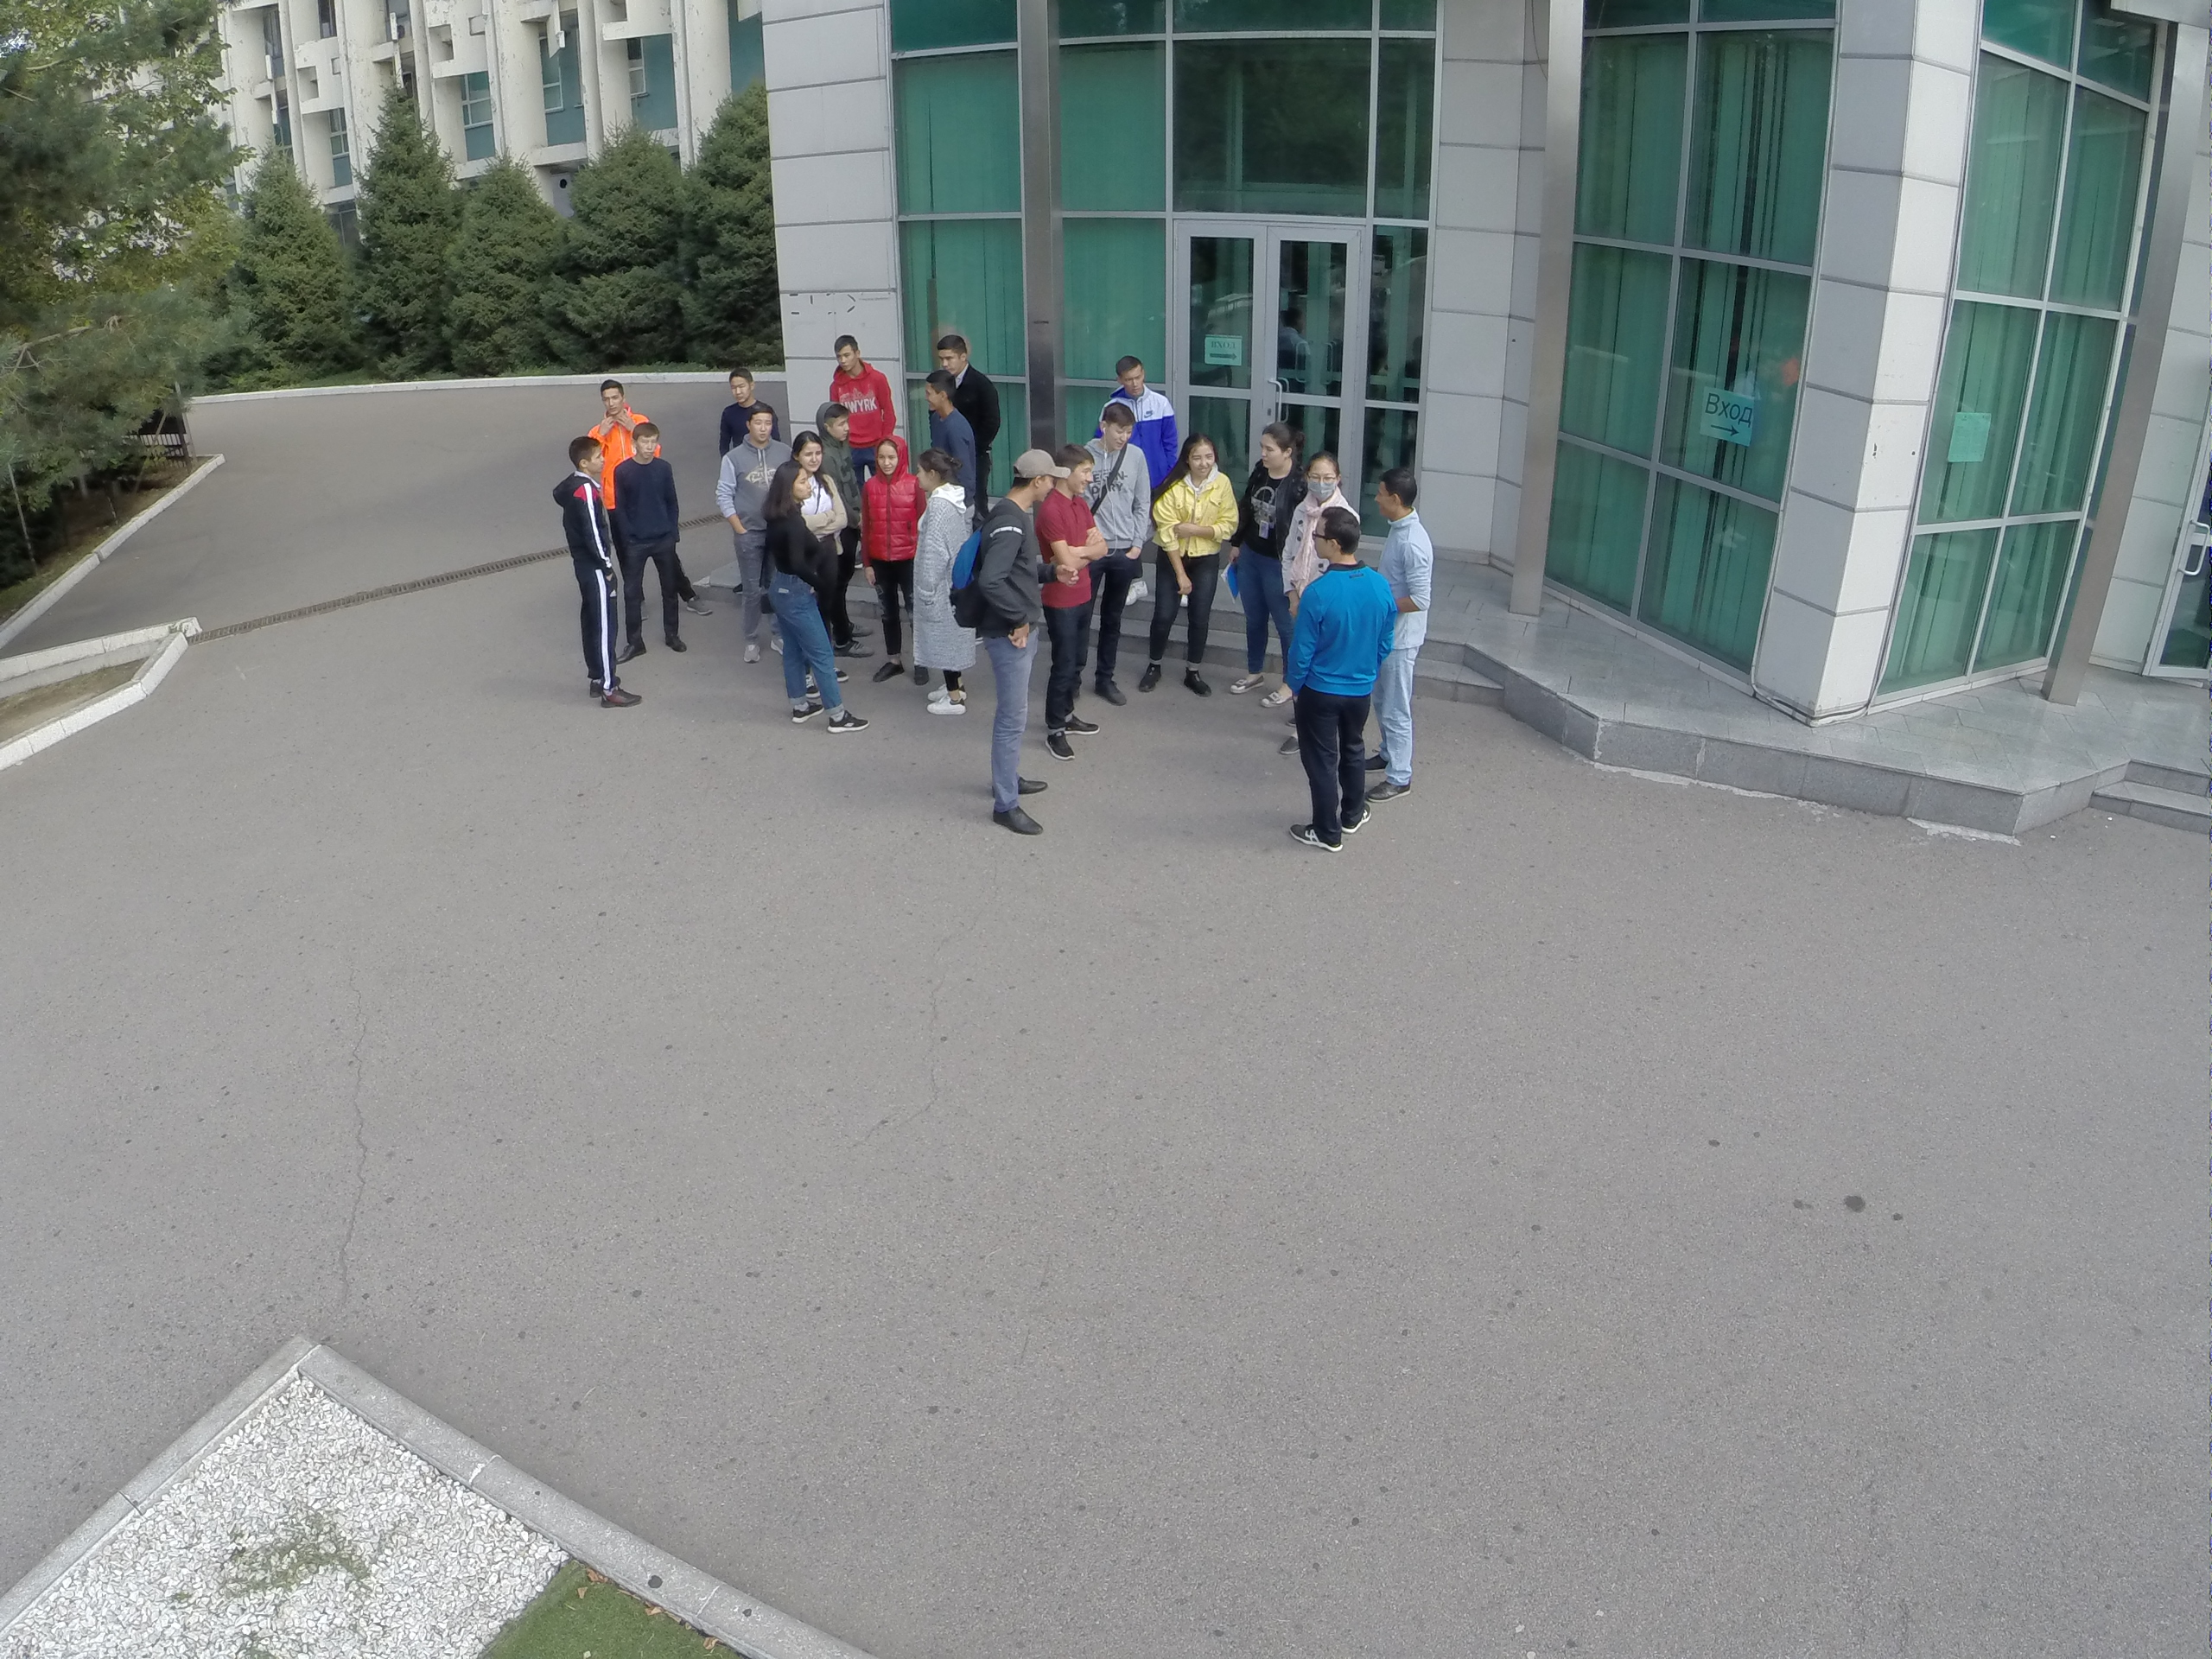person: (960, 448, 1051, 861), (1268, 510, 1370, 857), (762, 473, 855, 740), (546, 439, 634, 716), (1365, 467, 1433, 800), (906, 448, 982, 708), (1165, 437, 1239, 702), (855, 439, 923, 673), (1241, 425, 1296, 700), (1045, 441, 1090, 767), (622, 416, 682, 645), (739, 410, 784, 667), (807, 439, 855, 638), (836, 339, 901, 445), (941, 335, 1000, 423), (585, 384, 640, 468), (919, 378, 968, 470), (717, 371, 764, 433)
